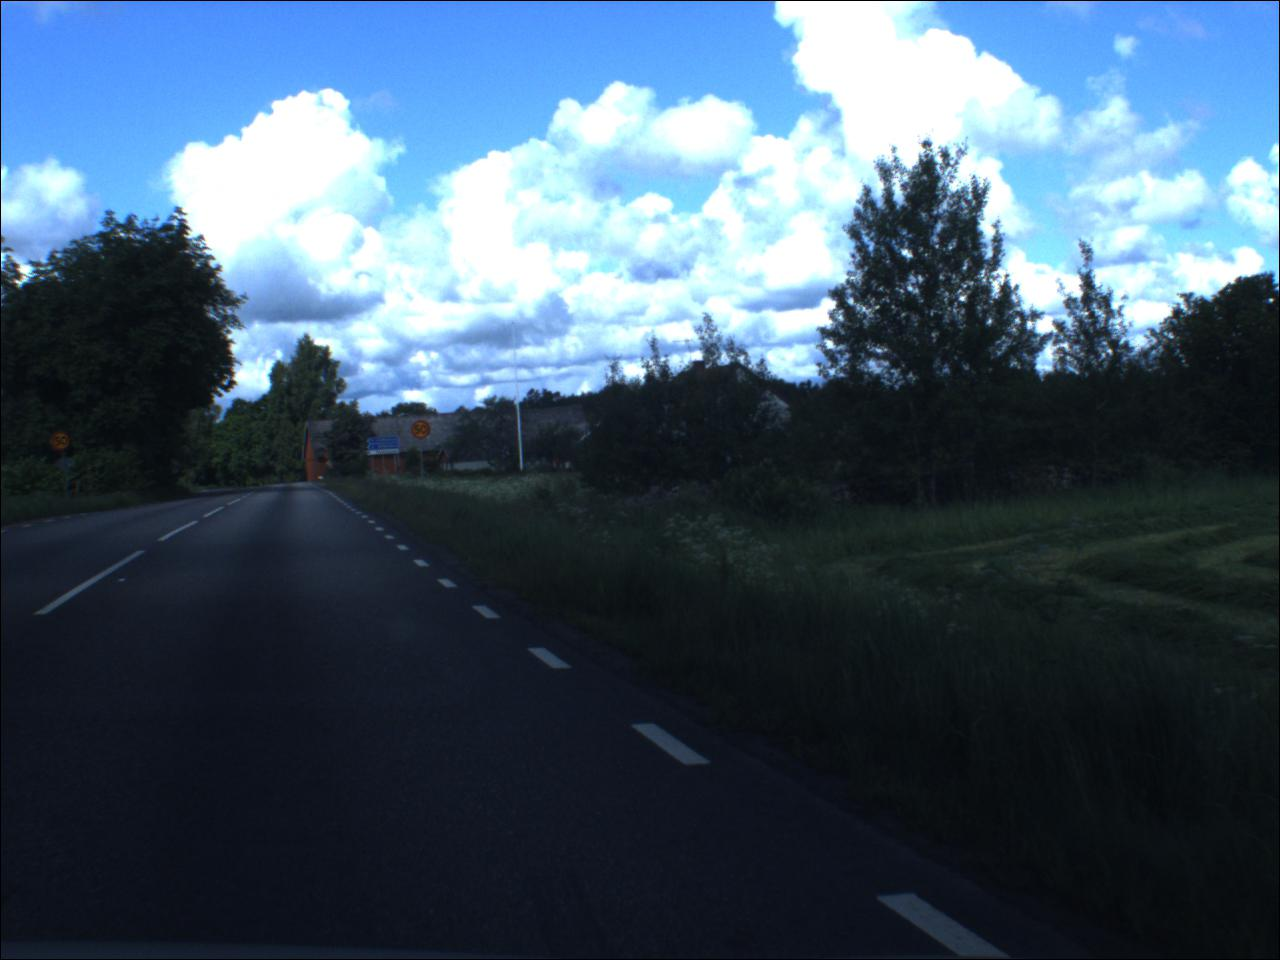50_SIGN: (412, 421, 433, 441), (52, 434, 73, 453)
